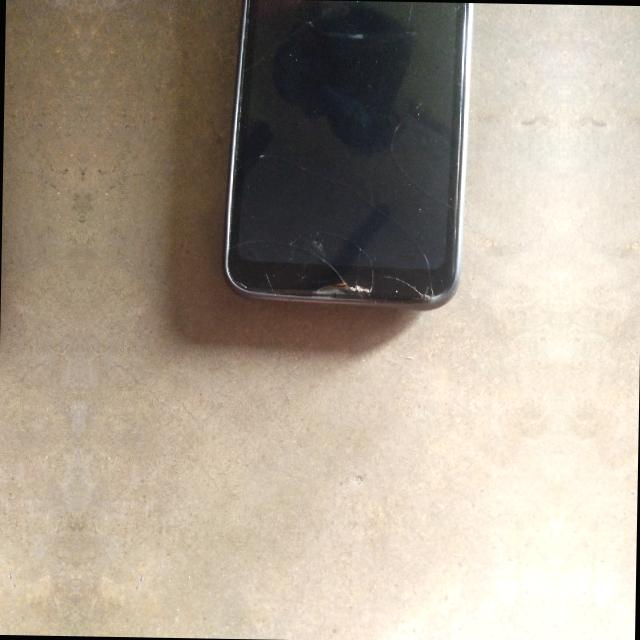phone_screen: (226, 0, 466, 303)
